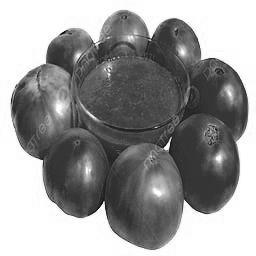bukan telur: (105, 142, 183, 251), (9, 62, 77, 160), (174, 115, 239, 216), (44, 127, 105, 218), (189, 58, 249, 145)
